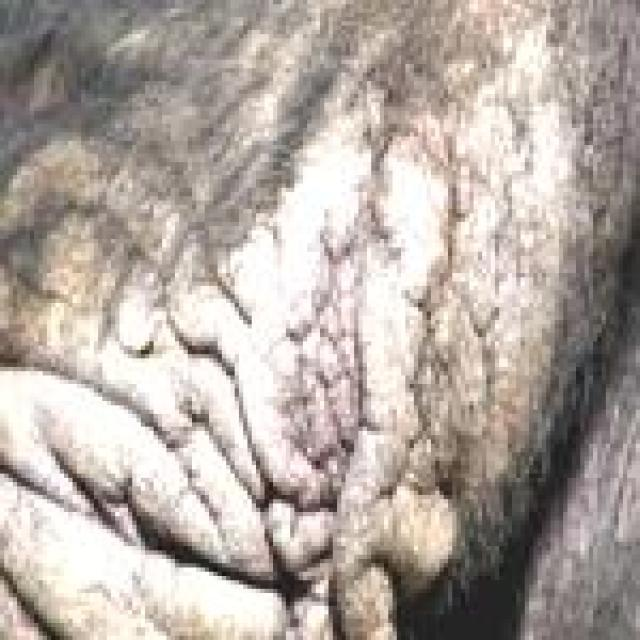fungal infection: (5, 125, 558, 631)
